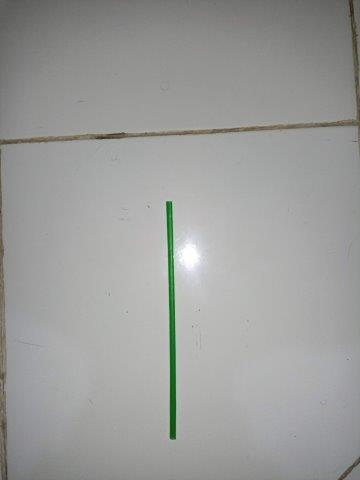sedotan: (166, 200, 177, 440)
